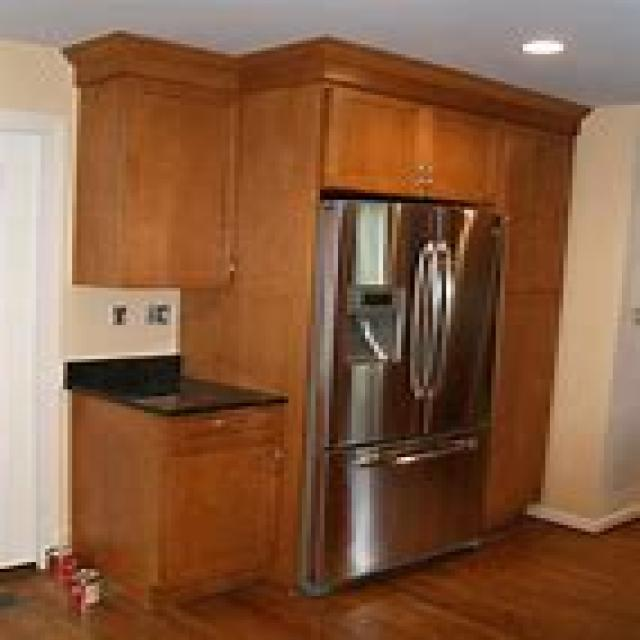fridge: (297, 193, 505, 593)
